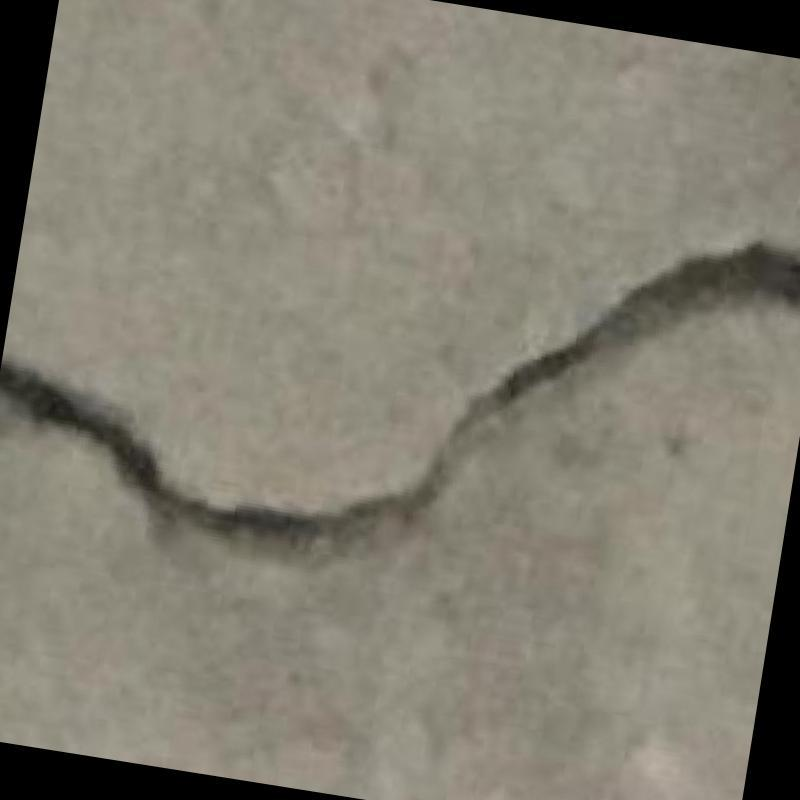crack: (0, 241, 800, 549)
